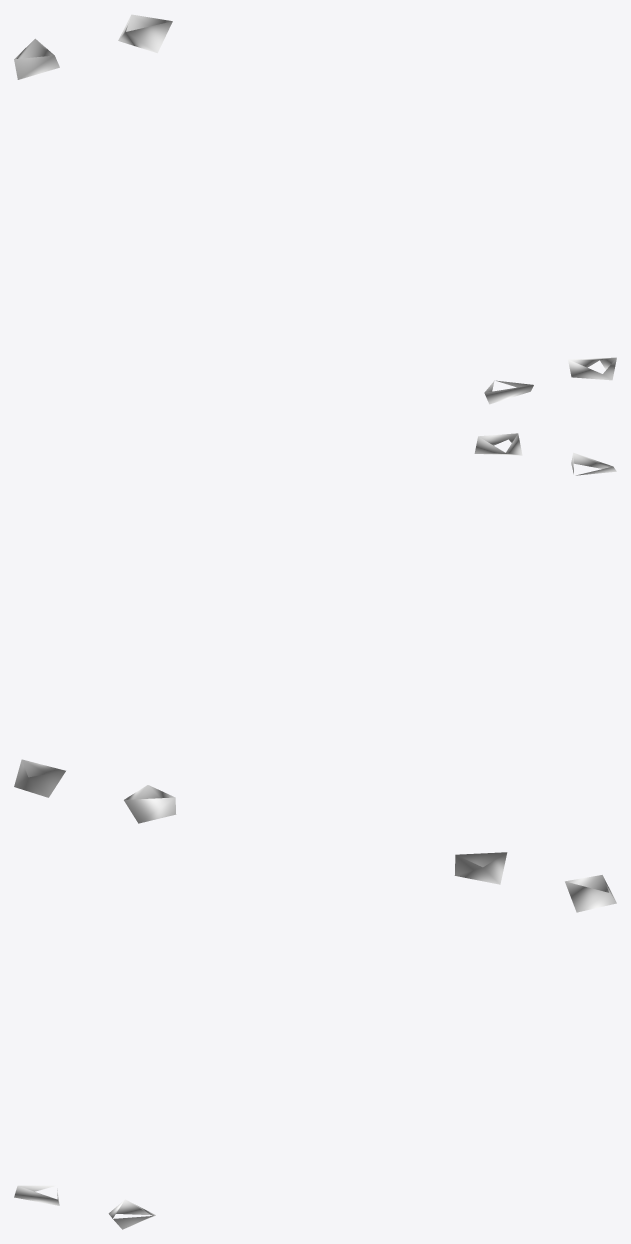
3 views of the same model, one above another, from view 1: azimuth 30°, elevation 25°; view 2: azimuth 150°, elevation 25°; view 3: azimuth 330°, elevation 25° (orthographic). The views are drawn at different scales.
Size of the model in its own units: 1.13 by 0.1337 by 6.03.
Materials: 1 (1 with a texture image).
